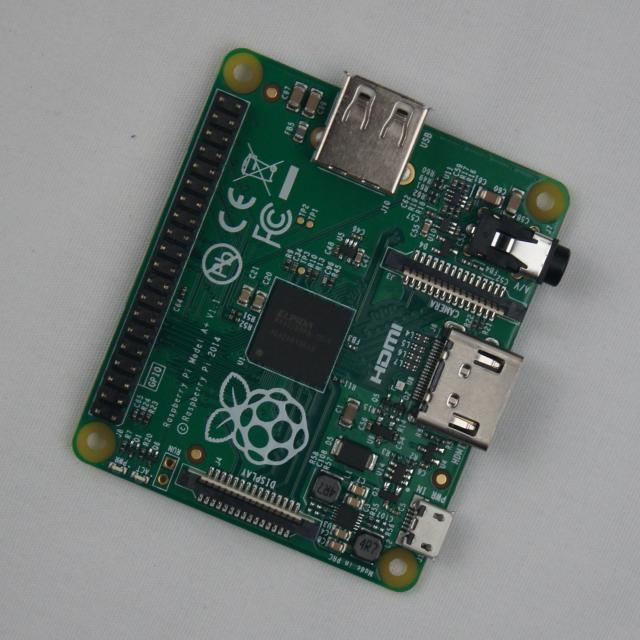Raspberry-Pi-1-A-: (74, 50, 570, 592)
